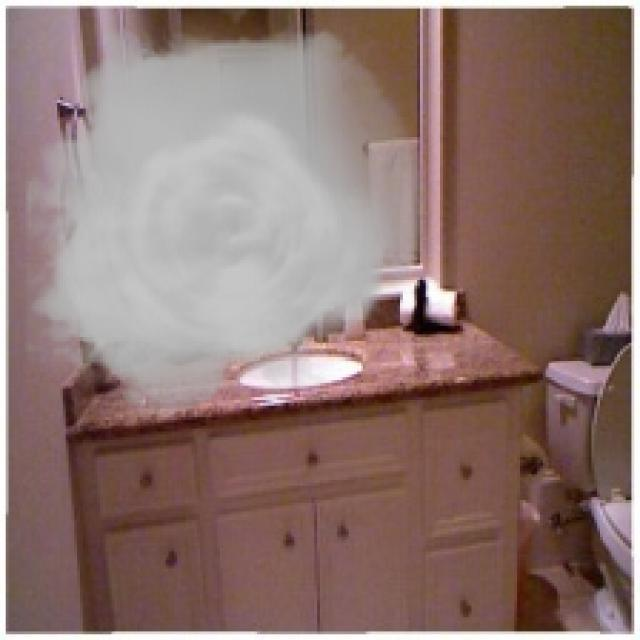Smoke: (26, 9, 426, 428)
